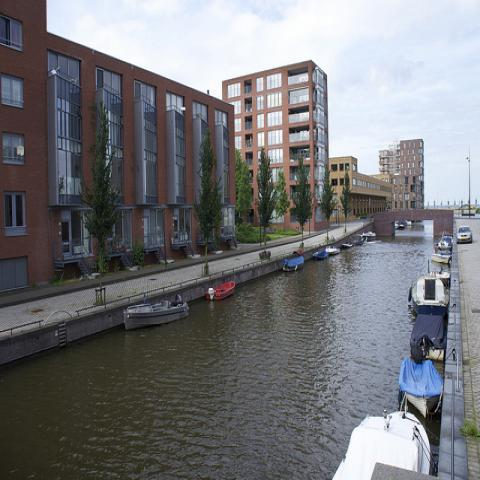car: (457, 226, 472, 244)
